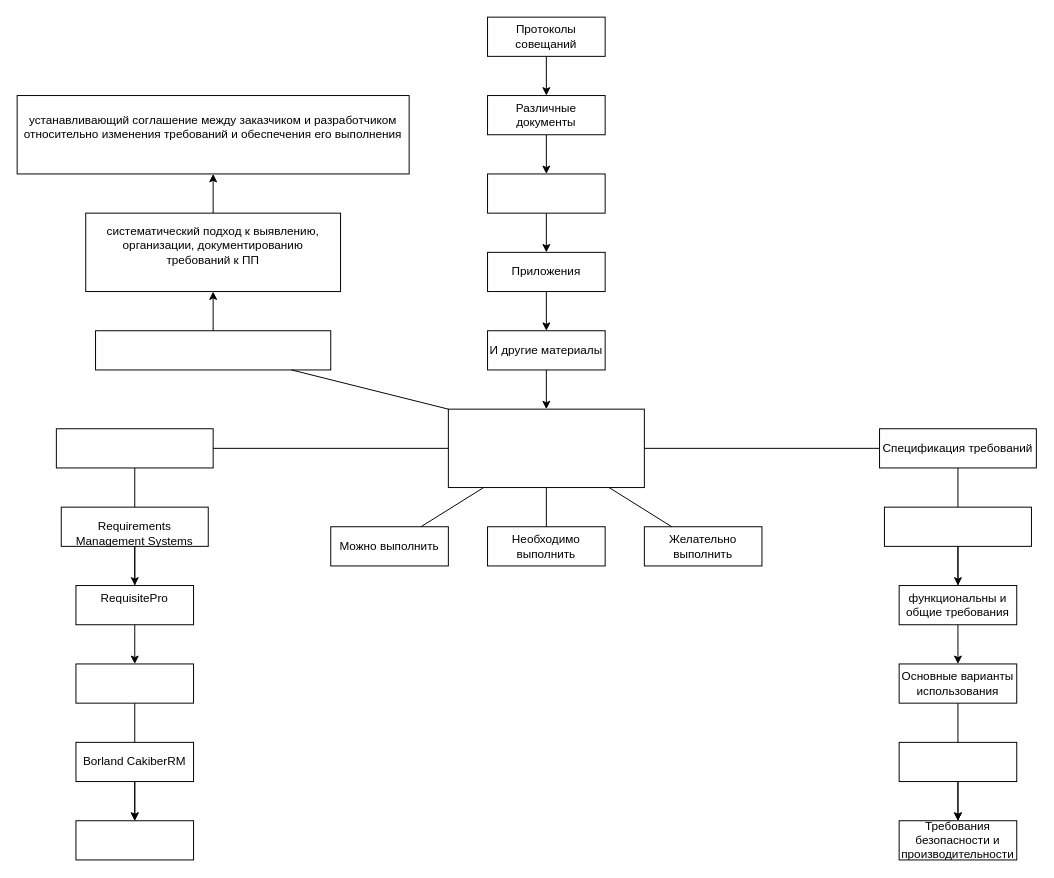
Some shapes in this 1054 by 878 pixel diagram are drawn without their labels. Here are the shapes that lost their labels. From the top down, the centre of each, then its label:
the point at 546,193: Отчеты
the point at 213,350: Управление требованиями
the point at 134,448: Системы управления требованиями
the point at 545,448: Требования
the point at 957,526: описание архитектуры системы
the point at 134,683: DOORS
the point at 957,761: Описание пользовательского интрефейса
the point at 134,840: Case Complete
